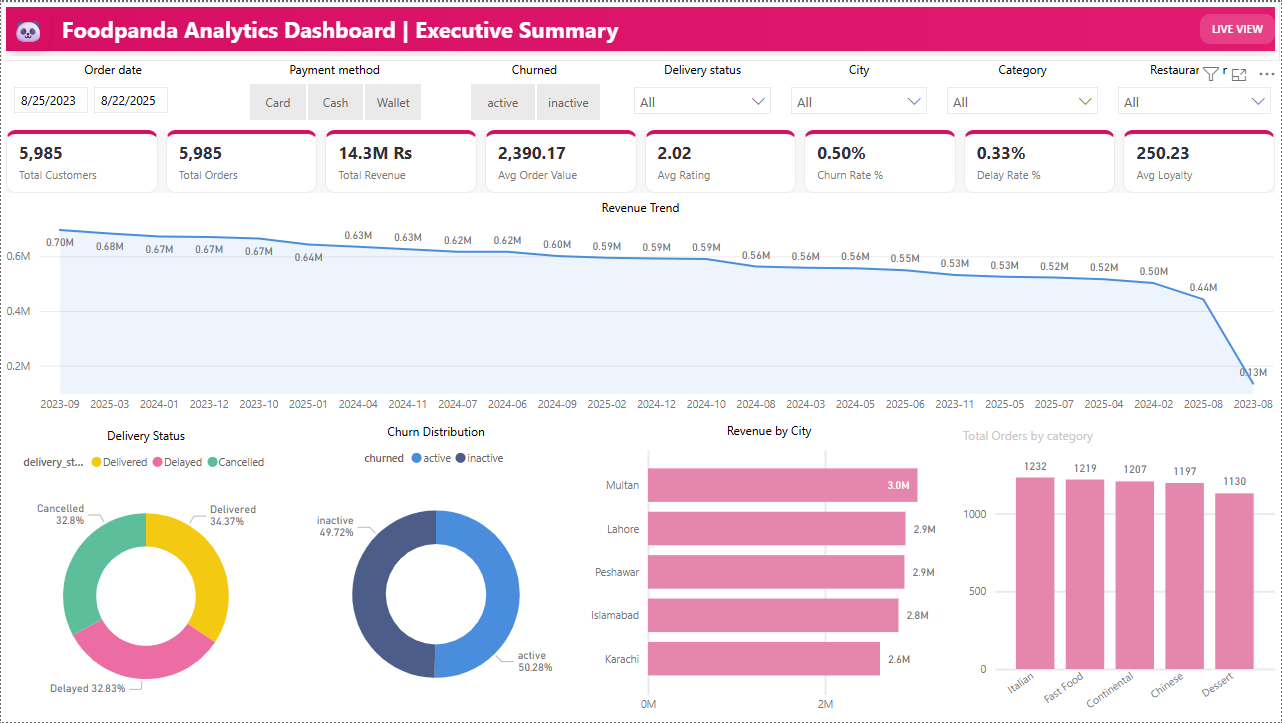

This screenshot's page, from the dashboard's own definition file:
{"tool":"powerbi","page":{"name":"Executive Summary","canvas":[1280,720],"ordinal":0},"visuals":[{"type":"slicer","title":"Order date","fields":{"Values":["Foodpanda.order_date"]},"box":[0,58.6,223.7,66.2],"z":0},{"type":"barChart","title":"Revenue by City","fields":{"Category":["Foodpanda.city"],"Y":["Foodpanda.Total Revenue"]},"box":[579.9,420,376.2,300],"z":1000},{"type":"slicer","title":"City","fields":{"Values":["Foodpanda.city"]},"box":[780,58.6,156.3,63.9],"z":2000},{"type":"donutChart","title":"Churn Distribution","fields":{"Category":["Foodpanda.churned"],"Y":["Foodpanda.Total Customers"]},"box":[290,420.5,290,299.5],"z":3000},{"type":"slicer","title":"Category","fields":{"Values":["Foodpanda.category"]},"box":[936.3,58.6,171.1,63.9],"z":4000},{"type":"donutChart","title":"Delivery Status","fields":{"Y":["Foodpanda.Total Orders"],"Category":["Foodpanda.delivery_status"]},"box":[0,424.8,290,295.2],"z":5000},{"type":"slicer","title":"Restaurant name","fields":{"Values":["Foodpanda.restaurant_name"]},"box":[1107.4,58.6,172.6,66.2],"z":6000},{"type":"columnChart","fields":{"Category":["Foodpanda.category"],"Y":["Foodpanda.Total Orders"]},"box":[956.6,424.8,322.2,295.2],"z":7000},{"type":"slicer","title":"Payment method","fields":{"Values":["Foodpanda.payment_method"]},"box":[223.2,58.6,221.1,66.2],"z":8000},{"type":"slicer","title":"Churned","fields":{"Values":["Foodpanda.churned"]},"box":[444.2,58.6,178.9,66.2],"z":9000},{"type":"slicer","title":"Delivery status","fields":{"Values":["Foodpanda.delivery_status"]},"box":[623.2,58.6,156.8,66.2],"z":10000},{"type":"htmlContent443BE3AD55E043BF878BED274D3A6855","fields":{"content":["Foodpanda.Executive Summary Title HTML 2"]},"box":[0,0,1278.6,58.6],"z":11000},{"type":"lineChart","title":"Revenue Trend","fields":{"Category":["DateTable.Year-Month"],"Y":["Foodpanda.Total Revenue"]},"box":[0,197.1,1278.6,222.9],"z":12000},{"type":"htmlContent443BE3AD55E043BF878BED274D3A6855","fields":{"content":["Foodpanda.Foodpanda KPI Card Group HTML"]},"box":[0,122.9,1278.6,74.3],"z":13000}]}

Visuals, with their boxes in screenshot pixels (x1, y1, x2, y2), scaled from the page's 1280x720 canvas onto the 1282x723 screenshot:
"Order date" slicer: [0, 59, 224, 125]
"Revenue by City" barChart: [581, 422, 958, 722]
"City" slicer: [781, 59, 938, 123]
"Churn Distribution" donutChart: [290, 422, 581, 722]
"Category" slicer: [938, 59, 1109, 123]
"Delivery Status" donutChart: [0, 427, 290, 722]
"Restaurant name" slicer: [1109, 59, 1281, 125]
columnChart - Foodpanda.category x Foodpanda.Total Orders: [958, 427, 1281, 722]
"Payment method" slicer: [224, 59, 445, 125]
"Churned" slicer: [445, 59, 624, 125]
"Delivery status" slicer: [624, 59, 781, 125]
htmlContent443BE3AD55E043BF878BED274D3A6855 - Foodpanda.Executive Summary Title HTML 2: [0, 0, 1281, 59]
"Revenue Trend" lineChart: [0, 198, 1281, 422]
htmlContent443BE3AD55E043BF878BED274D3A6855 - Foodpanda.Foodpanda KPI Card Group HTML: [0, 123, 1281, 198]
